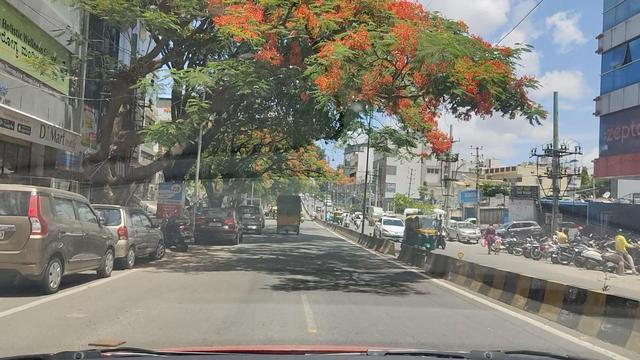HMV: (276, 196, 301, 234)
LMV: (0, 188, 68, 298)
